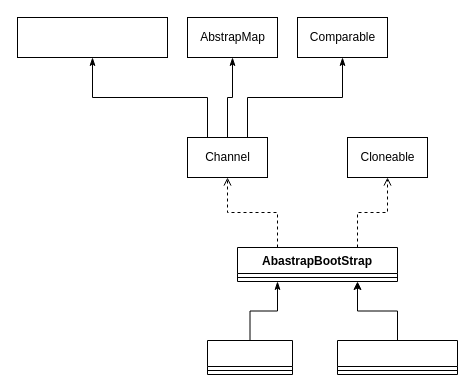
Image size: 475x392. Some labels were removed from this diagram. Here are the shapes that lost their labels. From the top down, the box of each, then its label:
(16, 16, 168, 58): ChannelOutboundInvoker
(206, 340, 292, 374): BootStrap
(336, 340, 458, 374): ServerBootStrap
